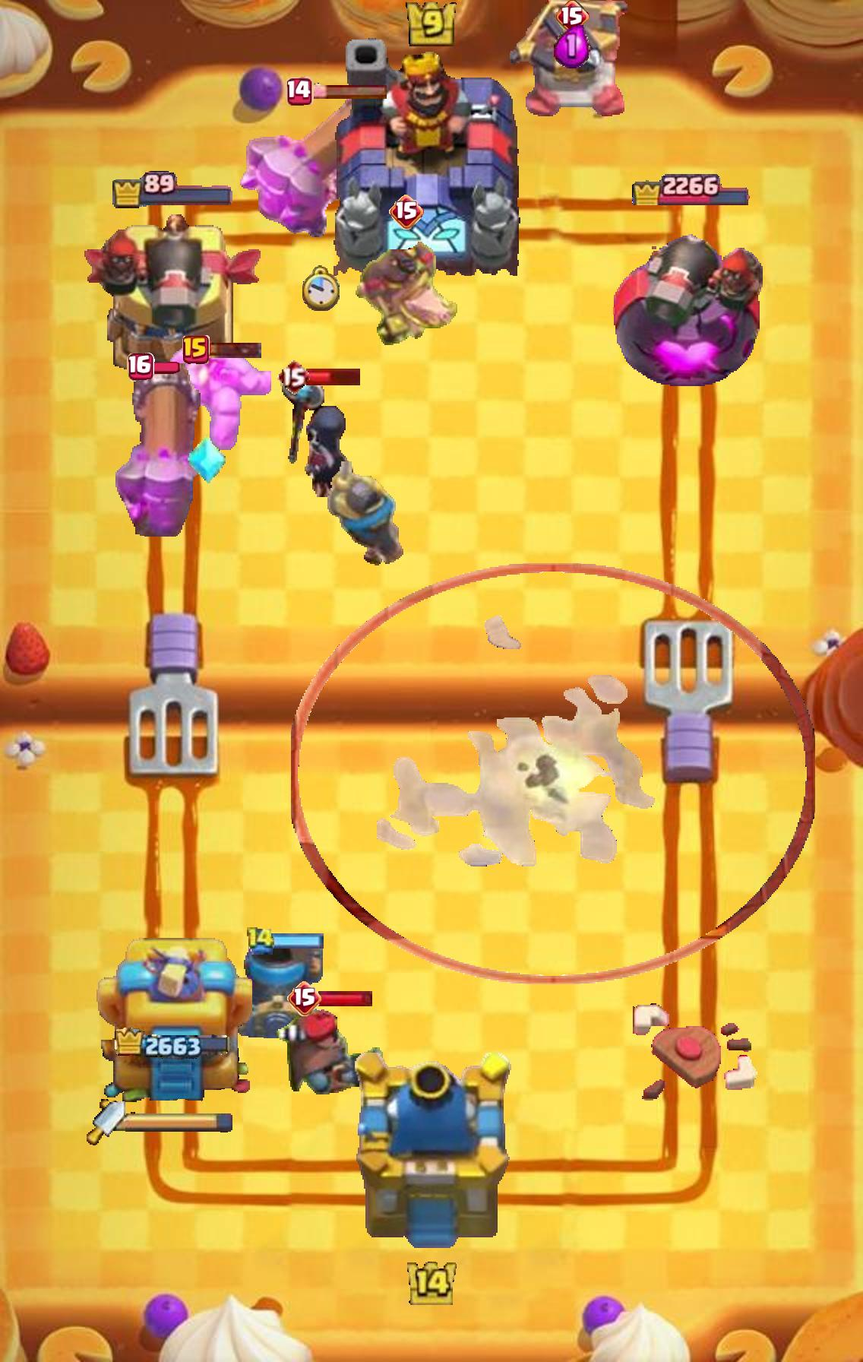bar: (310, 83, 389, 100), (306, 366, 362, 386), (206, 340, 262, 359), (318, 990, 375, 1007), (151, 361, 180, 374)
bar-level: (389, 195, 424, 230), (287, 981, 322, 1016), (277, 358, 310, 394), (556, 0, 590, 33), (285, 76, 313, 106), (182, 335, 210, 364), (127, 353, 155, 382)
